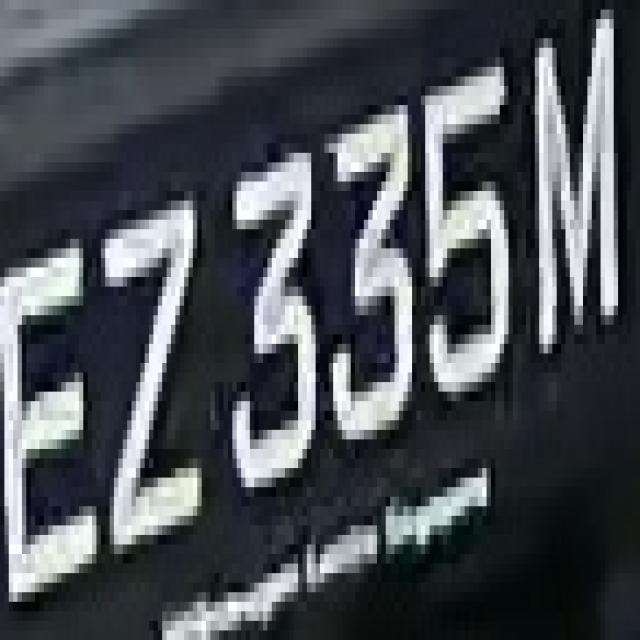3: (219, 134, 333, 544), (320, 67, 425, 477)
5: (408, 48, 517, 449)
E: (0, 2, 1, 10)
M: (522, 0, 631, 363)
Z: (96, 153, 210, 583)
